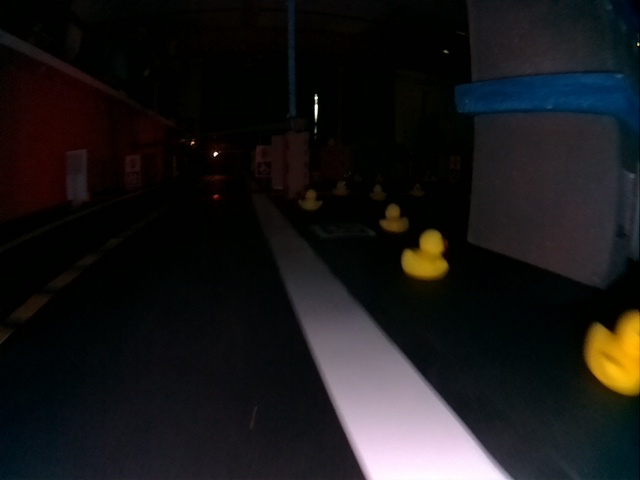Duckie: (585, 312, 639, 395), (402, 232, 448, 279), (380, 204, 406, 232), (298, 190, 320, 210), (369, 184, 386, 201), (333, 181, 347, 196)
QR code: (310, 221, 376, 237)
